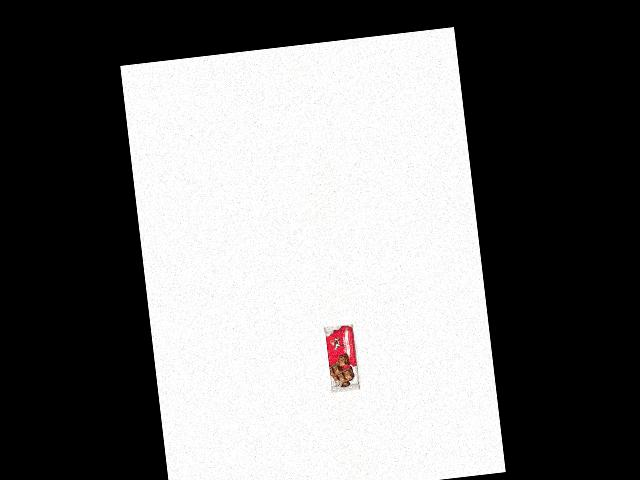chocolate: (321, 321, 365, 394)
